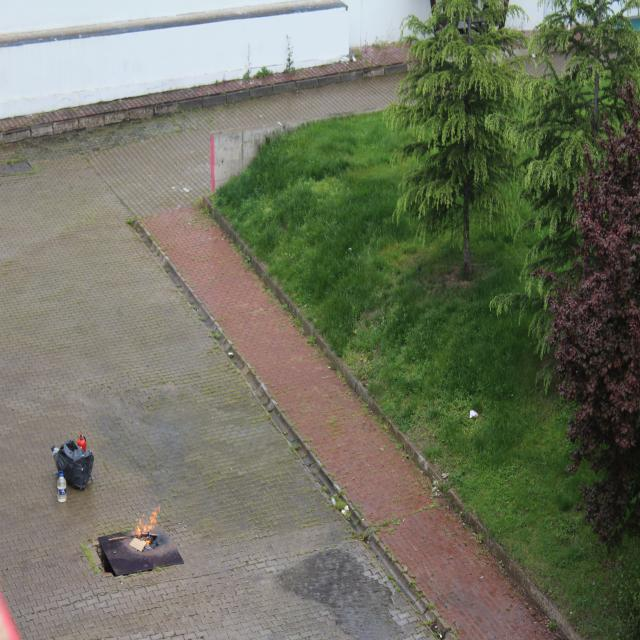fire: (136, 503, 160, 542)
